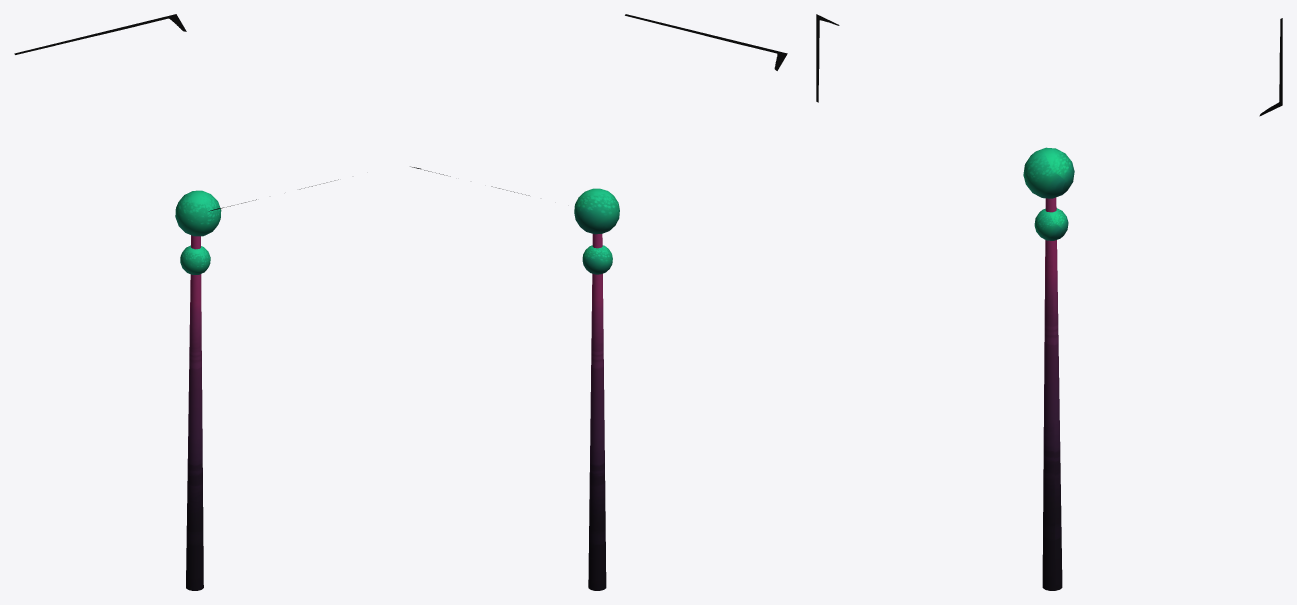
File: m_PlantHigh2.FBX
3 views of the same model, side by side, from view 1: azimuth 30°, elevation 25°; view 2: azimuth 150°, elevation 25°; view 3: azimuth 270°, elevation 25° (orthographic). The views are drawn at different scales.
Visible parts, largest first — view 1: plant high 2; view 2: plant high 2; view 3: plant high 2.
Boxes of the visible parts, x1,y1,x2,y2 form: plant high 2: [14, 14, 338, 590]; plant high 2: [410, 14, 787, 590]; plant high 2: [816, 14, 1282, 590].
Size of the model in its own units: 3.65 by 9.82 by 7.87.
